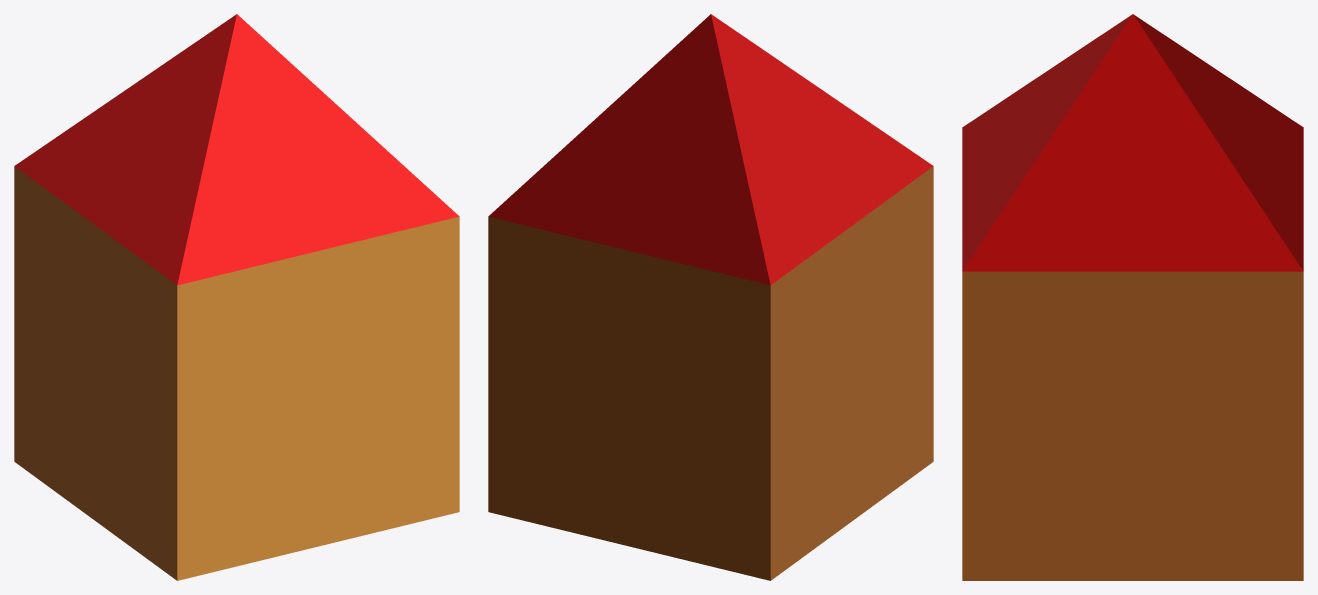
File: house.obj
3 views of the same model, side by side, from view 1: azimuth 30°, elevation 25°; view 2: azimuth 150°, elevation 25°; view 3: azimuth 270°, elevation 25° (orthographic). The views are drawn at different scales.
Bounding box in the file's own units: 2 × 3.2 × 2.
